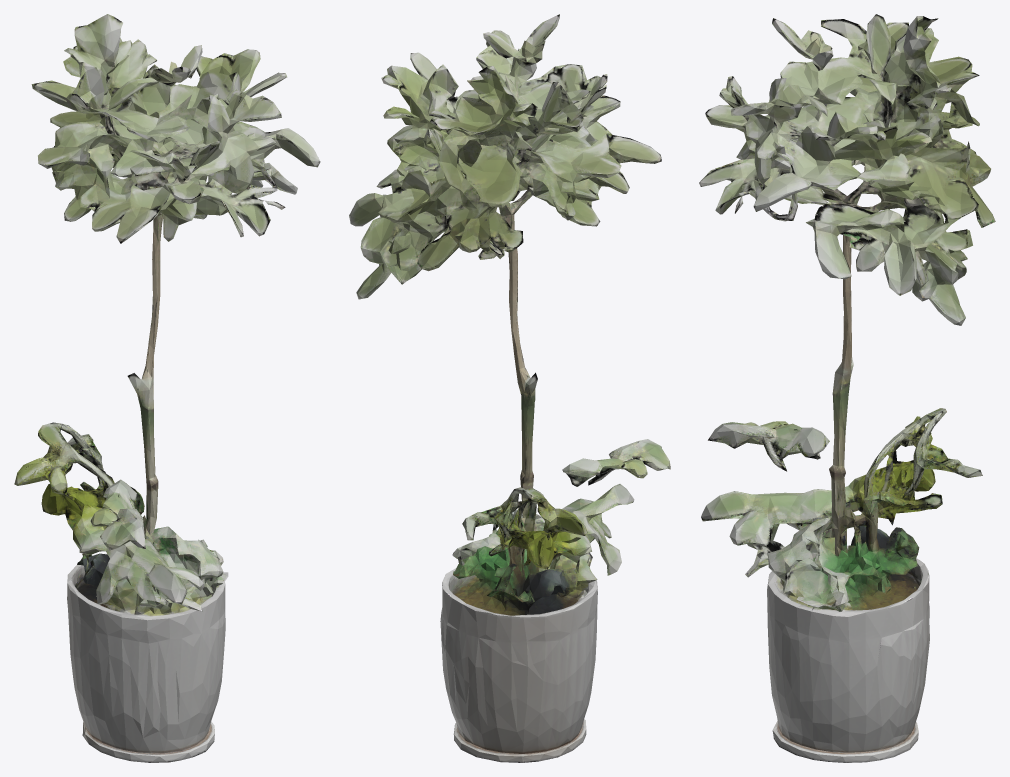
The picture shows the model from 3 angles, left to right: view 1: azimuth 30°, elevation 25°; view 2: azimuth 150°, elevation 25°; view 3: azimuth 270°, elevation 25°; orthographic projection. The views are drawn at different scales.
Parts seen in each view (by area): view 1: world; view 2: world; view 3: world.
Part boxes in pixels (x1,y1,x2,y2): world: (14,14,320,762); world: (349,14,670,762); world: (699,14,995,762).
Bounding box in the file's own units: 0.3751 × 1 × 0.3757.
1 material, 1 textured.
